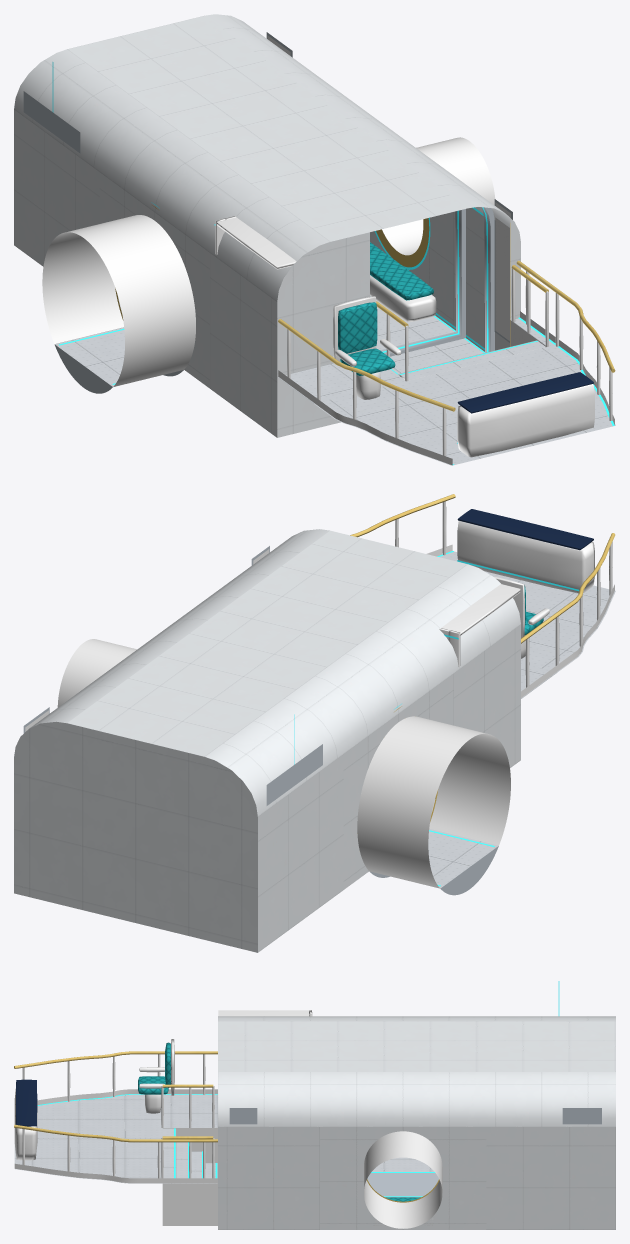
Rendered from starpod_interior_v9.glb.
The picture shows the model from 3 angles, top to bottom: view 1: azimuth 30°, elevation 25°; view 2: azimuth 150°, elevation 25°; view 3: azimuth 270°, elevation 25°; orthographic projection. The views are drawn at different scales.
Bounding box in the file's own units: 7.28 × 4.2 × 13.01.
Materials: 10 (10 with a texture image).
